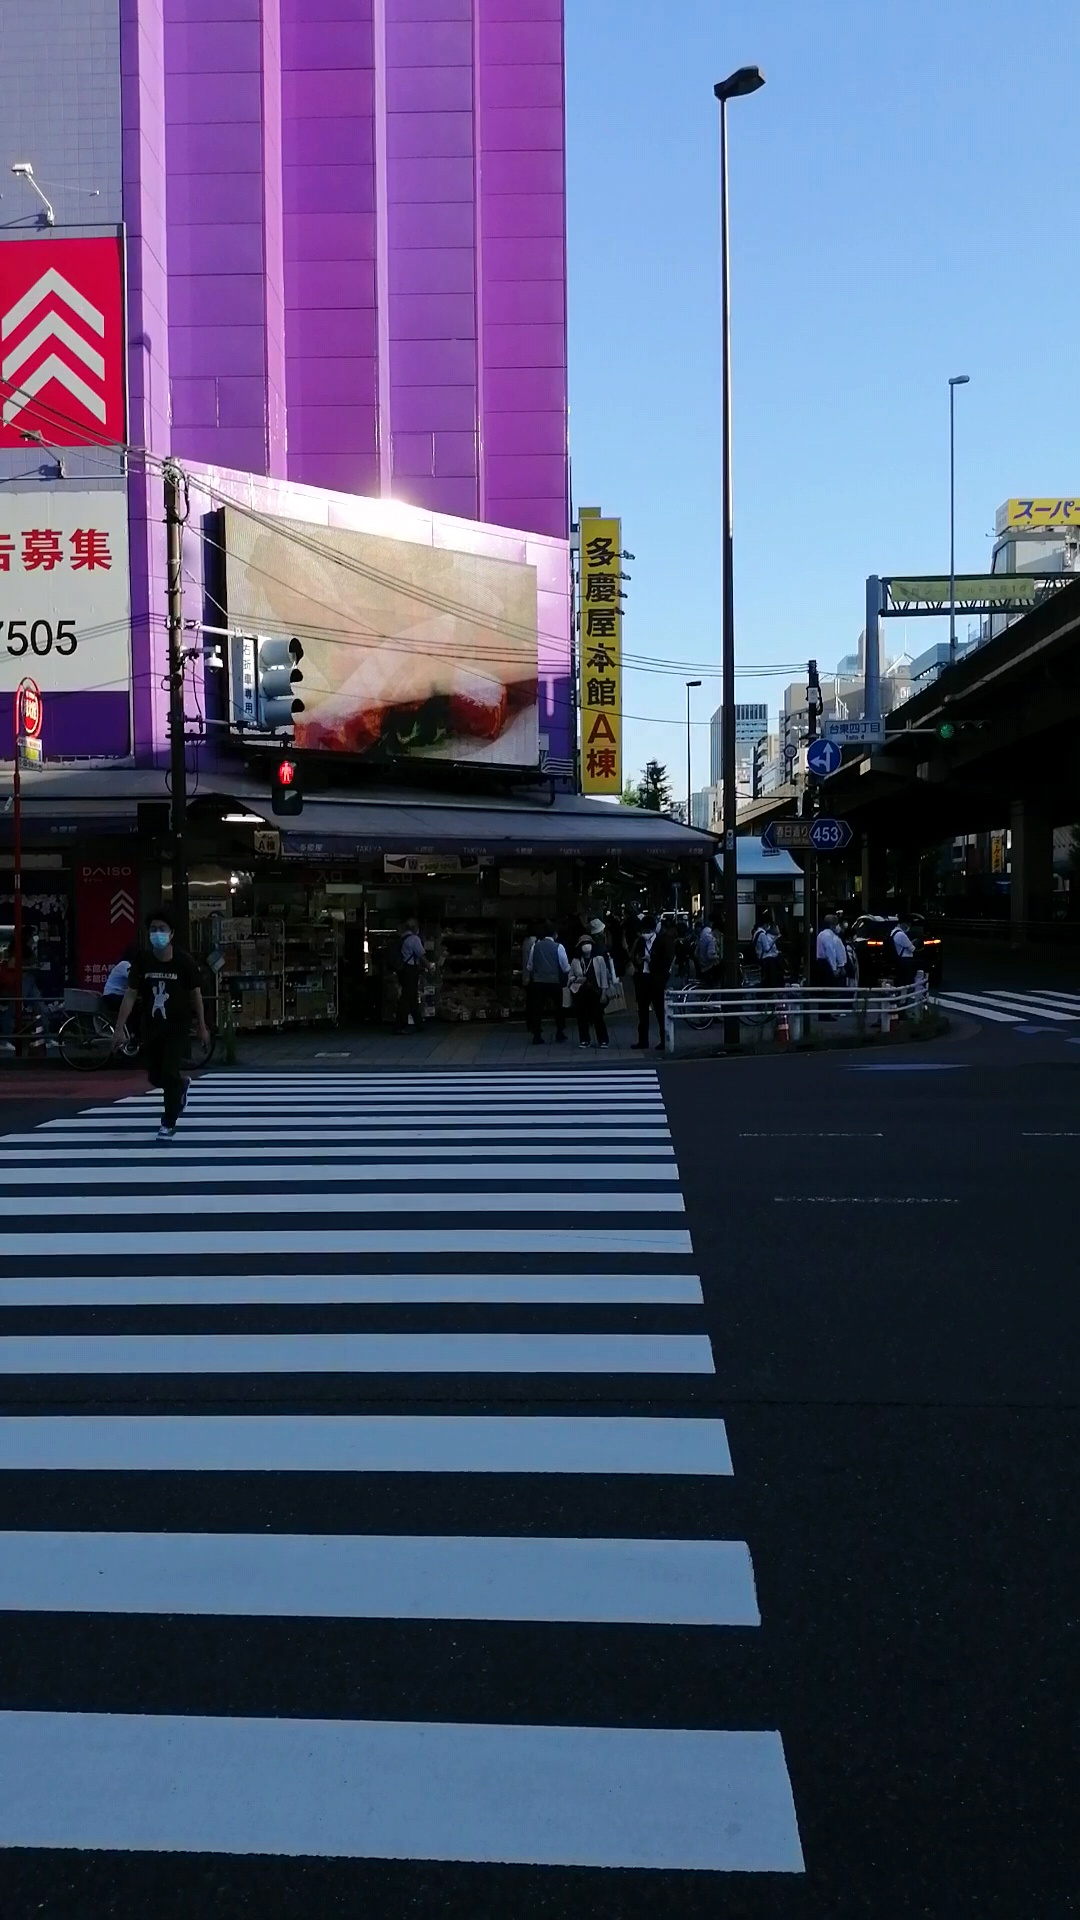red: (272, 758, 303, 816)
